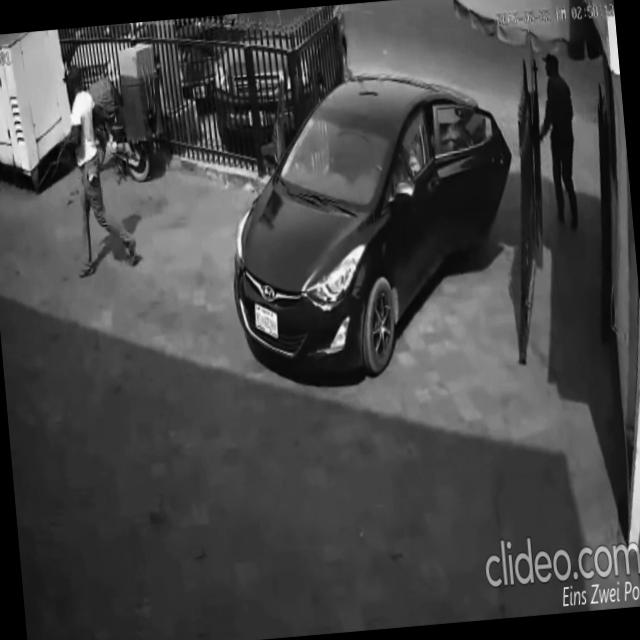gun: (52, 130, 78, 167)
person: (532, 46, 584, 234)
person with a gun: (47, 56, 141, 283)
